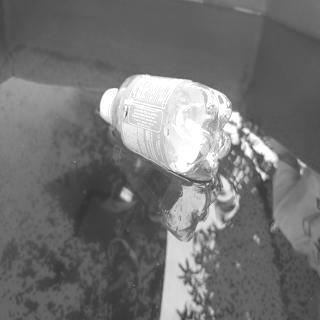bottle: (98, 72, 232, 183)
